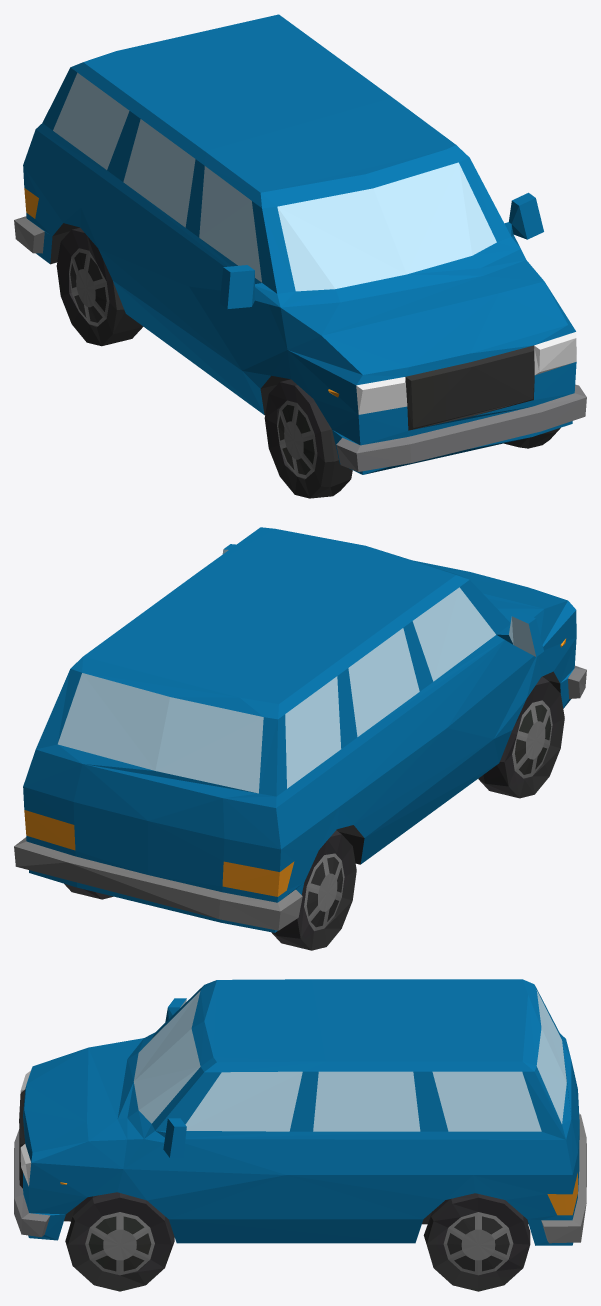
The model's file is van.glb.
The picture shows the model from 3 angles, top to bottom: view 1: azimuth 30°, elevation 25°; view 2: azimuth 150°, elevation 25°; view 3: azimuth 270°, elevation 25°; orthographic projection. The views are drawn at different scales.
Parts seen in each view (by area): view 1: Van; view 2: Van; view 3: Van.
Boxes of the visible parts, box(x1,y1,x2,y2) form: Van: box(14, 14, 586, 498); Van: box(14, 527, 586, 950); Van: box(14, 979, 586, 1291).
Size of the model in its own units: 43.89 by 33.94 by 79.84.
1 material, 1 textured.
